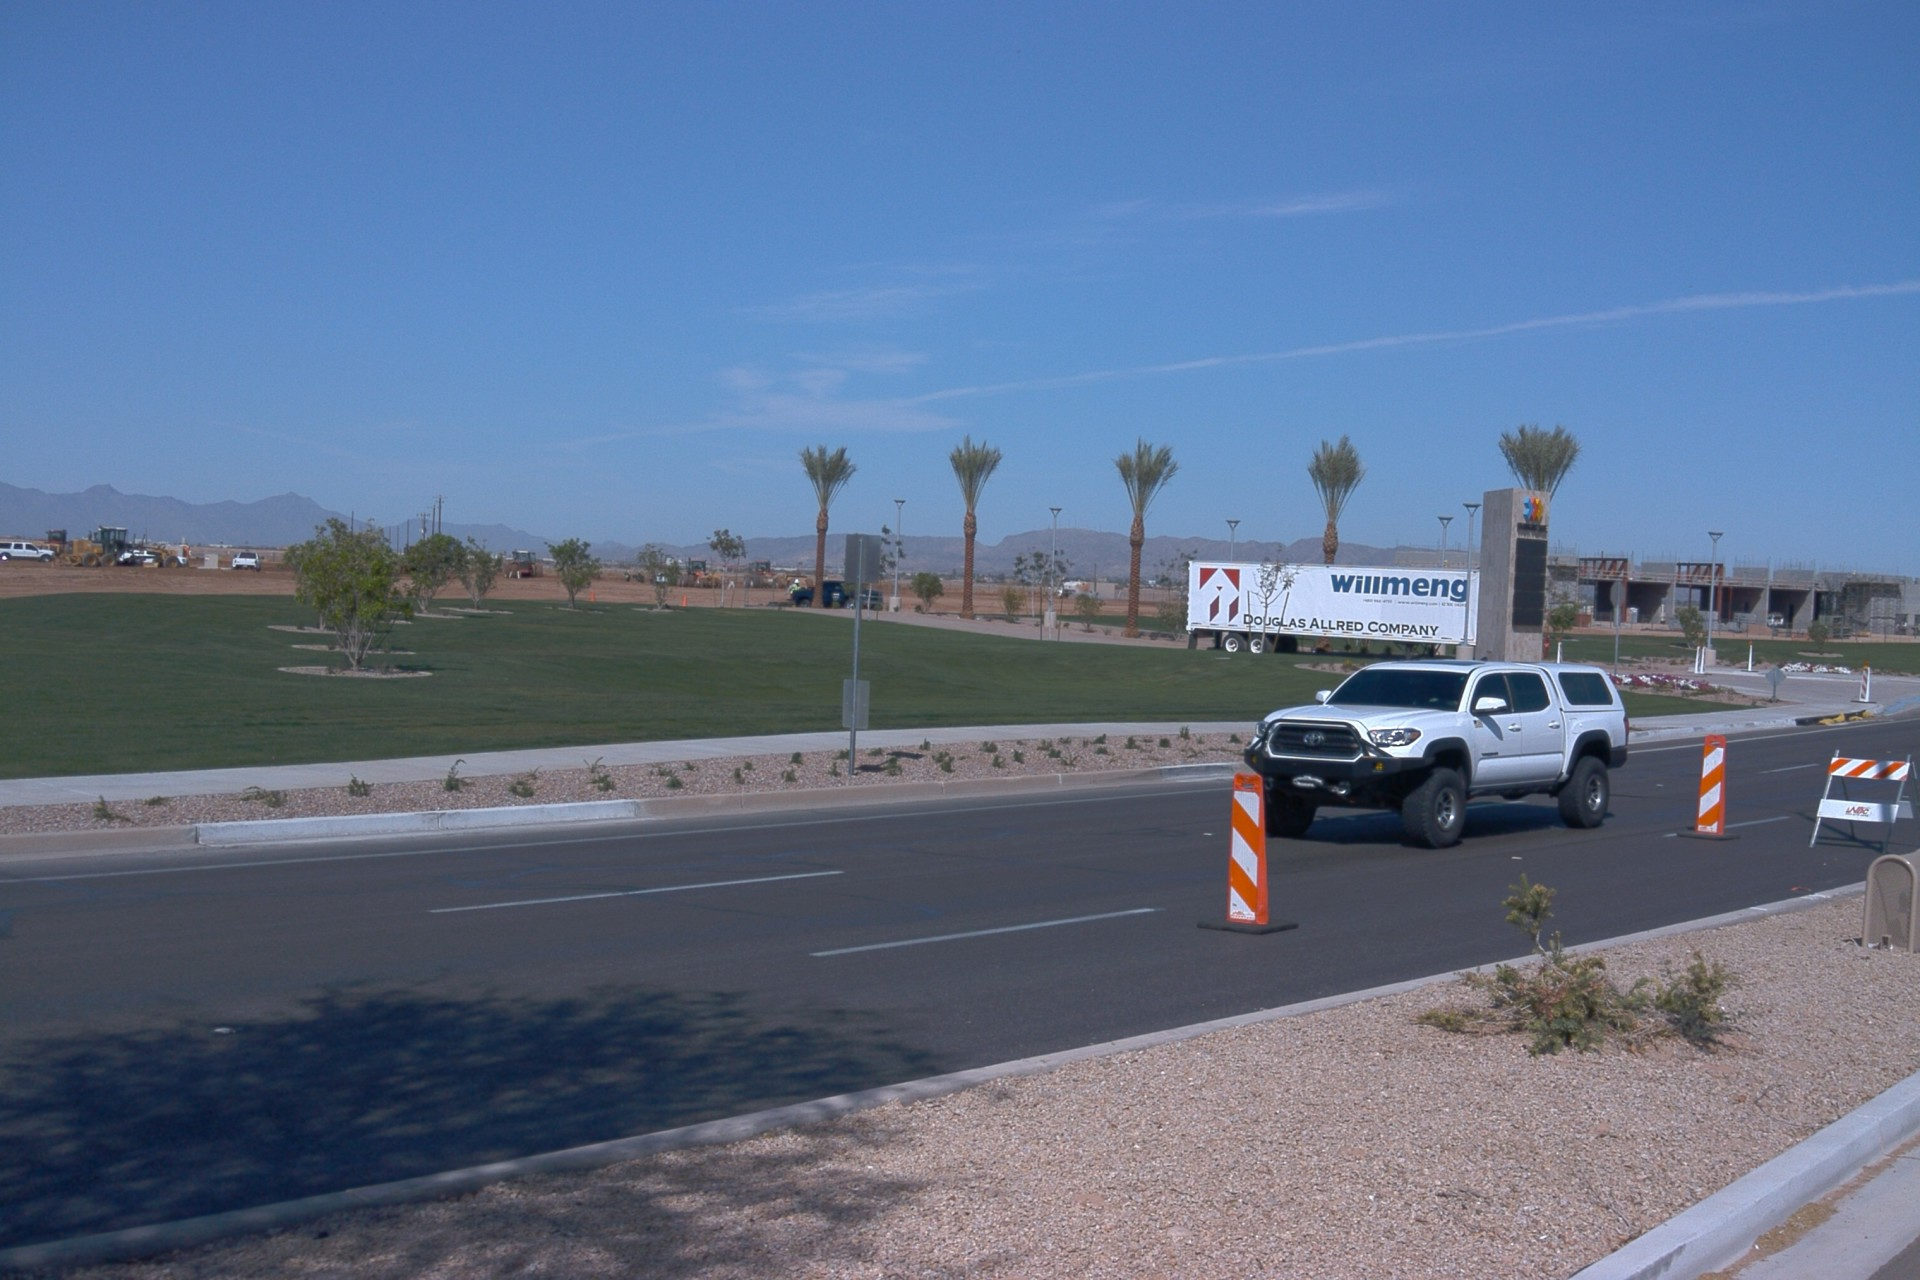TYPE_PEDESTRIAN: (788, 579, 801, 600), (623, 570, 631, 585), (648, 571, 654, 586)
TYPE_VEHICLE: (1241, 657, 1630, 850), (1183, 554, 1478, 656), (48, 522, 177, 571), (793, 579, 886, 611), (497, 547, 543, 582), (123, 546, 189, 565), (3, 537, 59, 558), (1050, 577, 1094, 597), (229, 555, 264, 575), (654, 576, 670, 589), (1471, 564, 1477, 570)
